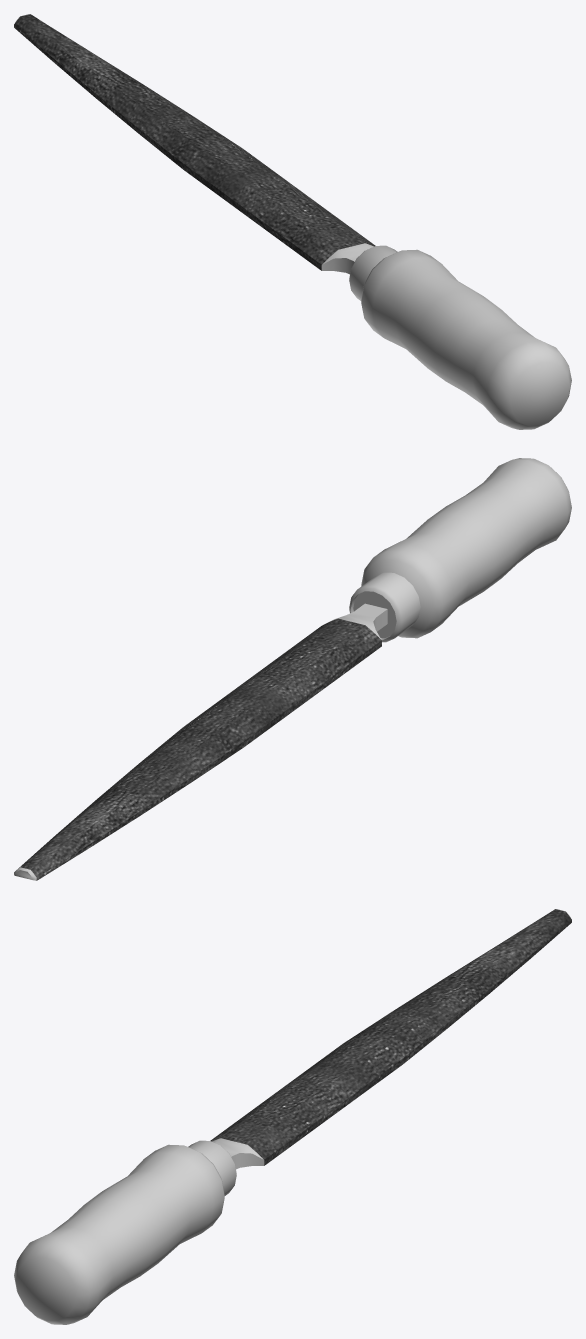
The model's file is Rasp.fbx.
3 views of the same model, one above another, from view 1: azimuth 30°, elevation 25°; view 2: azimuth 150°, elevation 25°; view 3: azimuth 330°, elevation 25° (orthographic).
Parts seen in each view (by area): view 1: Rasp; view 2: Rasp; view 3: Rasp.
Boxes of the visible parts, box(x1,y1,x2,y2) form: Rasp: box(14, 14, 571, 429); Rasp: box(14, 458, 571, 880); Rasp: box(14, 909, 571, 1324).
Size of the model in its own units: 100 by 100 by 1100.
